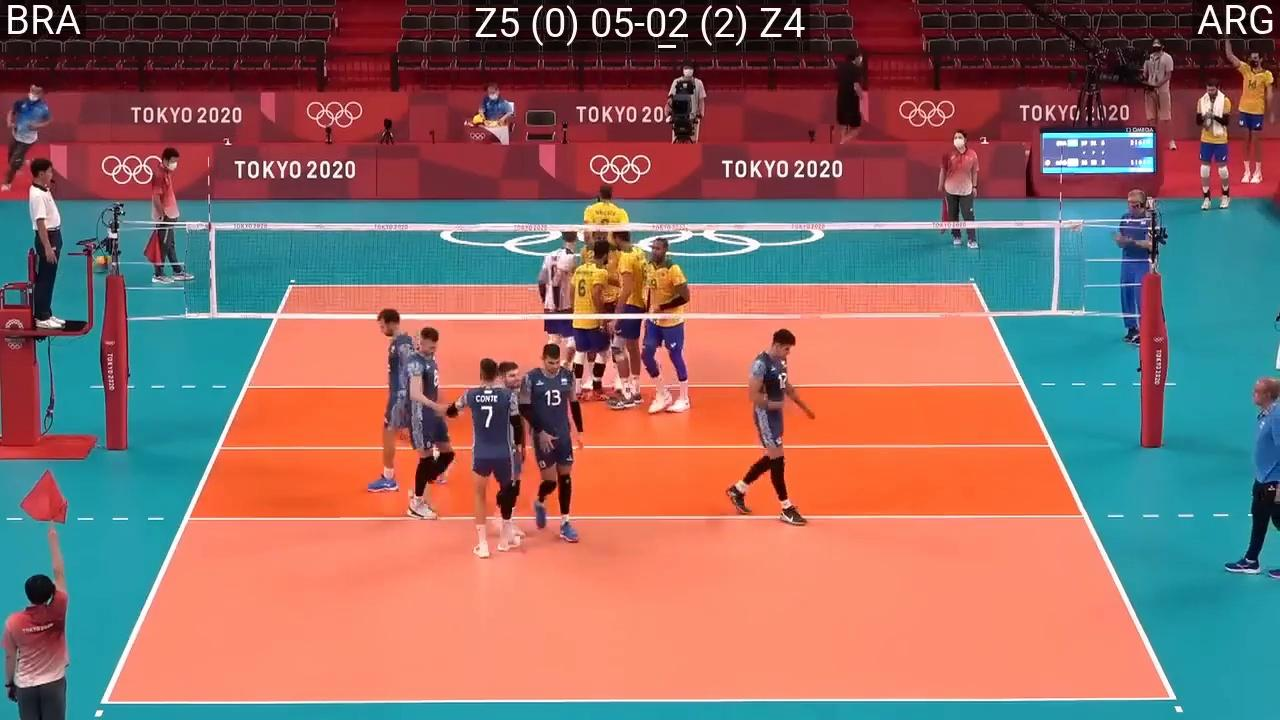ball: (95, 255, 111, 271)
